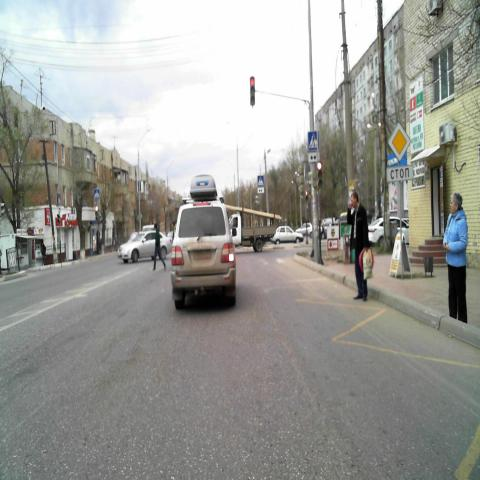8_15: (307, 152, 319, 162)
